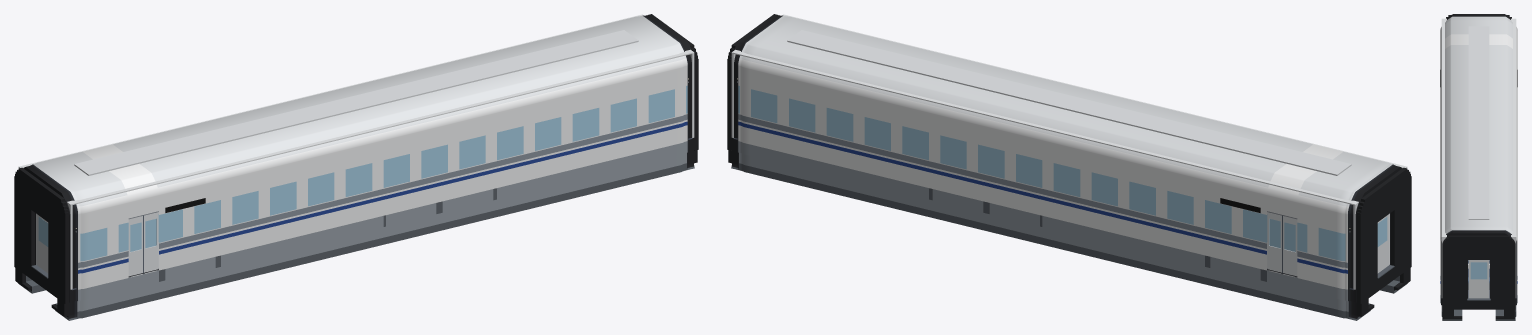
The model's file is transrapid_car.obj.
3 renders of one model, left to right at view 1: azimuth 30°, elevation 25°; view 2: azimuth 150°, elevation 25°; view 3: azimuth 270°, elevation 25°, orthographic. The views are drawn at different scales.
Visible parts, largest first — view 1: SHELL, SHELL_roof, SHELL_diaphragm, SHELL_ceiling, EXTERNAL_DOOR_4_CG_DR1_TOGGLE_TL_-0.54_X, EXTERNAL_DOOR_5_CG_DR1_TOGGLE_TL_0.54_X, CONNECTING_DOOR_1_CG_CR_TOGGLE_TL_0.98_Z, SHELL_end; view 2: SHELL, SHELL_roof, SHELL_diaphragm, SHELL_ceiling, EXTERNAL_DOOR_7_CG_DL1_TOGGLE_TL_-0.54_X, EXTERNAL_DOOR_8_CG_DL1_TOGGLE_TL_0.54_X, CONNECTING_DOOR_1_CG_CR_TOGGLE_TL_0.98_Z, SHELL_end; view 3: SHELL, SHELL_diaphragm, SHELL_roof, SHELL_ceiling, CONNECTING_DOOR_2_CG_CF_TOGGLE_TL_0.98_Z, SHELL_end.
Boxes of the visible parts, x1=… form: SHELL: x1=18, y1=14, x2=694, y2=320; SHELL_roof: x1=74, y1=30, x2=638, y2=175; SHELL_diaphragm: x1=14, y1=14, x2=698, y2=316; SHELL_ceiling: x1=20, y1=15, x2=692, y2=204; EXTERNAL_DOOR_4_CG_DR1_TOGGLE_TL_-0.54_X: x1=128, y1=215, x2=143, y2=276; EXTERNAL_DOOR_5_CG_DR1_TOGGLE_TL_0.54_X: x1=144, y1=212, x2=158, y2=272; CONNECTING_DOOR_1_CG_CR_TOGGLE_TL_0.98_Z: x1=37, y1=214, x2=48, y2=273; SHELL_end: x1=18, y1=14, x2=694, y2=289; SHELL: x1=731, y1=14, x2=1407, y2=320; SHELL_roof: x1=787, y1=30, x2=1351, y2=175; SHELL_diaphragm: x1=727, y1=14, x2=1411, y2=316; SHELL_ceiling: x1=733, y1=15, x2=1405, y2=204; EXTERNAL_DOOR_7_CG_DL1_TOGGLE_TL_-0.54_X: x1=1282, y1=215, x2=1297, y2=276; EXTERNAL_DOOR_8_CG_DL1_TOGGLE_TL_0.54_X: x1=1267, y1=212, x2=1281, y2=272; CONNECTING_DOOR_1_CG_CR_TOGGLE_TL_0.98_Z: x1=1377, y1=214, x2=1388, y2=273; SHELL_end: x1=731, y1=14, x2=1407, y2=289; SHELL: x1=1440, y1=14, x2=1517, y2=320; SHELL_diaphragm: x1=1442, y1=15, x2=1515, y2=319; SHELL_roof: x1=1468, y1=26, x2=1489, y2=219; SHELL_ceiling: x1=1441, y1=19, x2=1516, y2=236; CONNECTING_DOOR_2_CG_CF_TOGGLE_TL_0.98_Z: x1=1468, y1=260, x2=1489, y2=298; SHELL_end: x1=1441, y1=18, x2=1516, y2=297.
Size of the model in its own units: 25.12 by 4.68 by 3.72.
1 material, 1 textured.
